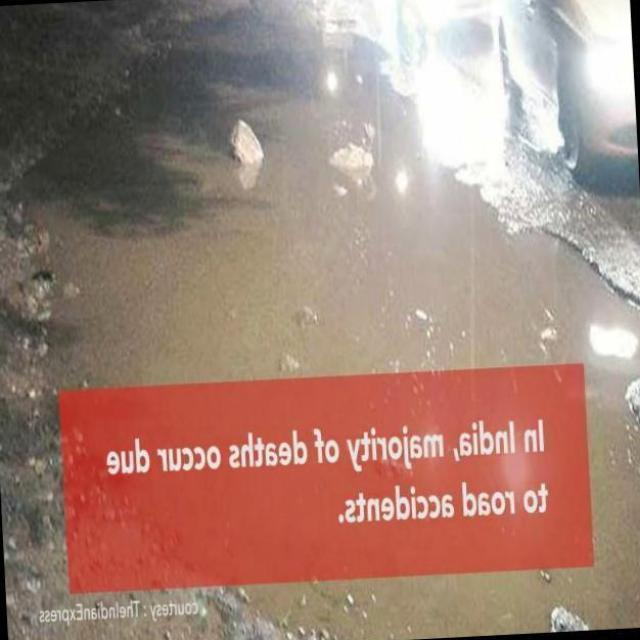Pathole: (28, 26, 640, 393)
